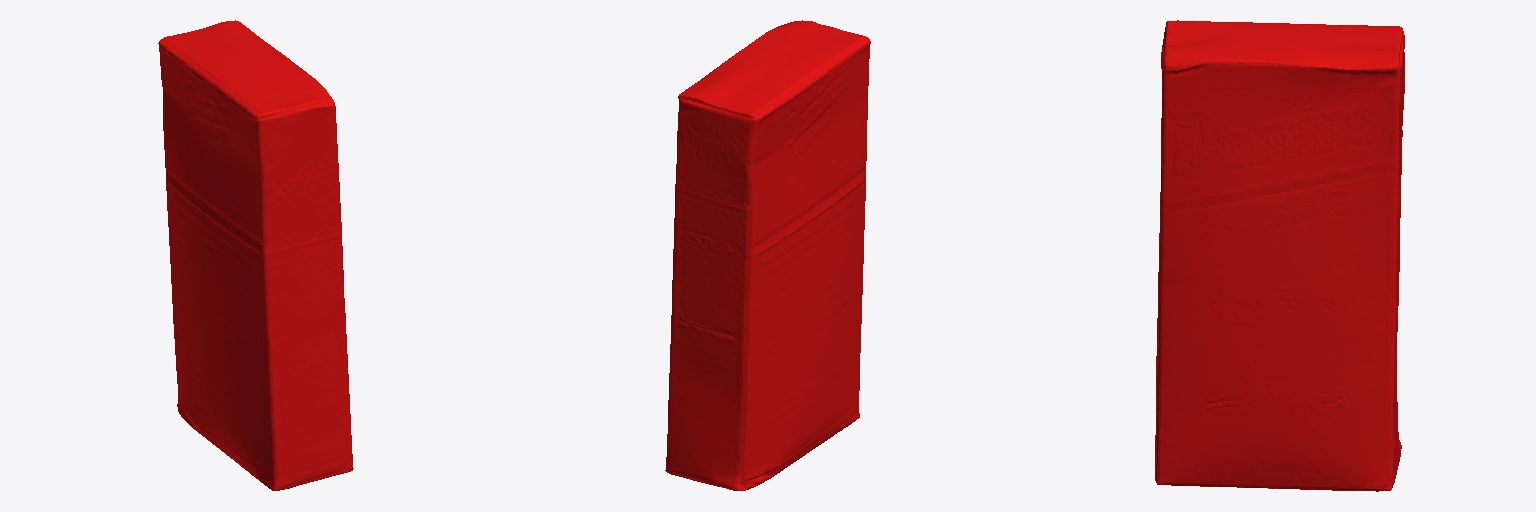
The robot description file, URDF, robot "apple":
<?xml version="1.0"?>
<robot name="apple">
  <link name="base_link_apple">
    <inertial>
      <origin xyz="0 0 0.088" rpy="0 0 0" />
      <mass value="0.514" />
      <inertia ixx="1.04e-5" ixy="0" ixz="0" iyy="1.89e-6" iyz="0"
          izz="4.90e-7" />
    </inertial>
    <visual>
      <origin xyz="0 0 0" rpy="0 0 0" />
      <geometry>
        <mesh filename="004_sugar_box.obj"/>
      </geometry>
      <material name="red">
        <color rgba="0.9 0.1 0.1 0.9" />
      </material>
    </visual>

    <collision>
      <geometry>
        <mesh filename="004_sugar_box.obj"/>
      </geometry>
    </collision>


   </link>
</robot>

--- What the picture shows (computed from the rendered views, not written in the file) ---
The picture shows the robot from 3 angles, left to right: view 1: azimuth 30°, elevation 25°; view 2: azimuth 150°, elevation 25°; view 3: azimuth 270°, elevation 25°; orthographic projection.
Model apple with 1 links and 0 joints (none), rooted at base_link_apple, posed every joint at zero.
Links seen in each view (by area): view 1: base_link_apple; view 2: base_link_apple; view 3: base_link_apple.
Boxes of the visible links, left/top/right/bottom form: base_link_apple: left=158, top=20, right=353, bottom=490; base_link_apple: left=665, top=20, right=870, bottom=490; base_link_apple: left=1155, top=20, right=1404, bottom=491.
Size in the robot's own frame: 0.0495 by 0.0942 by 0.176 metres.
Meshes: 1 distinct files referenced, 1 mesh visuals loaded (1 OBJ).
